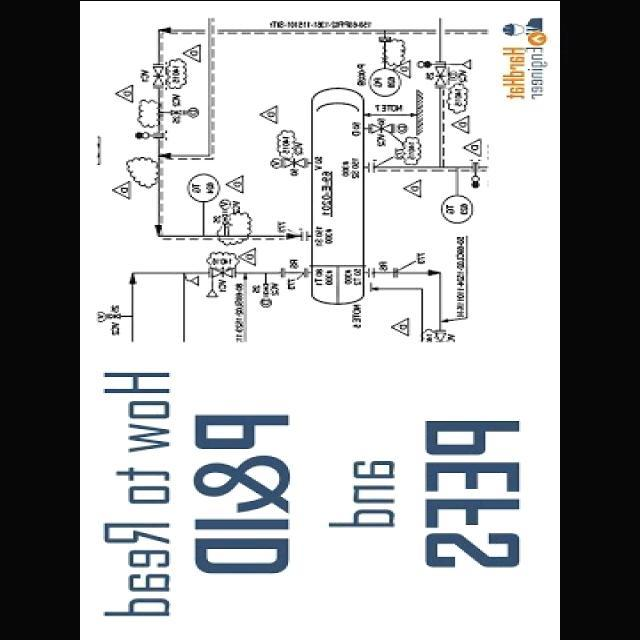Needle Valve: (211, 264, 235, 278), (367, 122, 393, 132), (152, 64, 163, 86), (435, 65, 444, 86)
